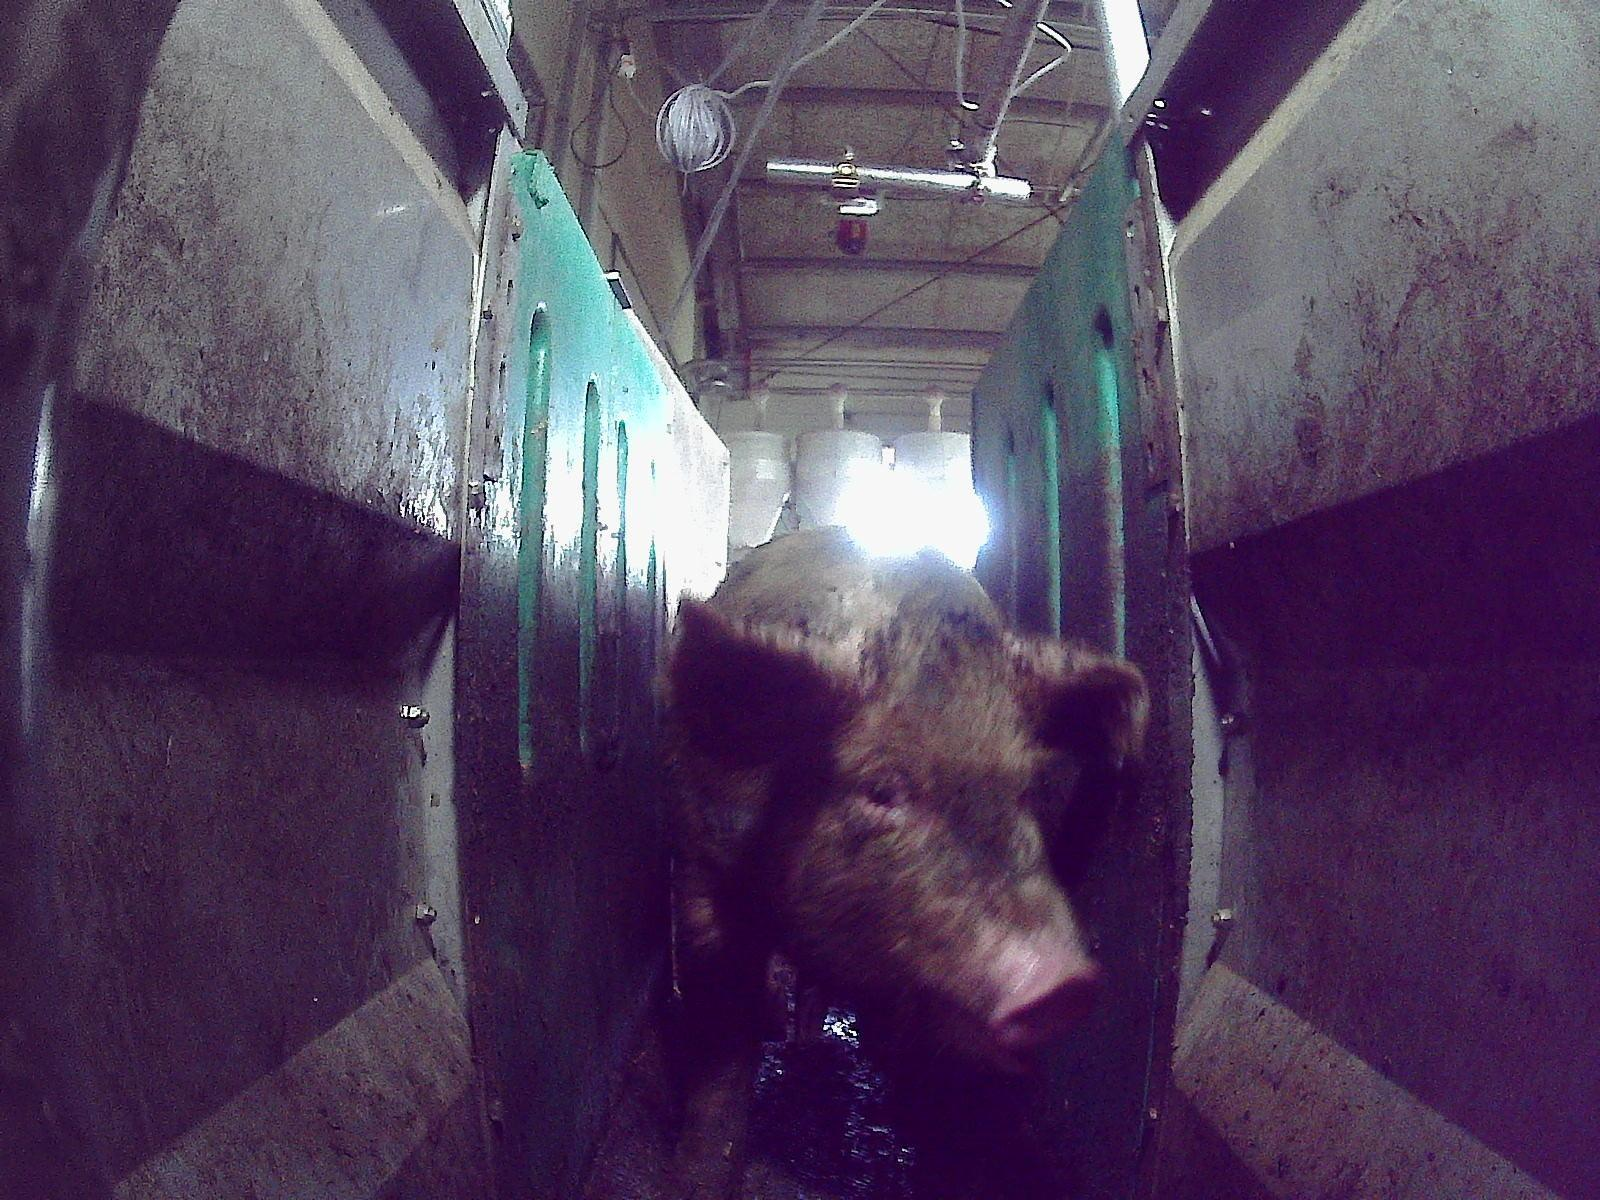Face: (760, 617, 1104, 1077)
